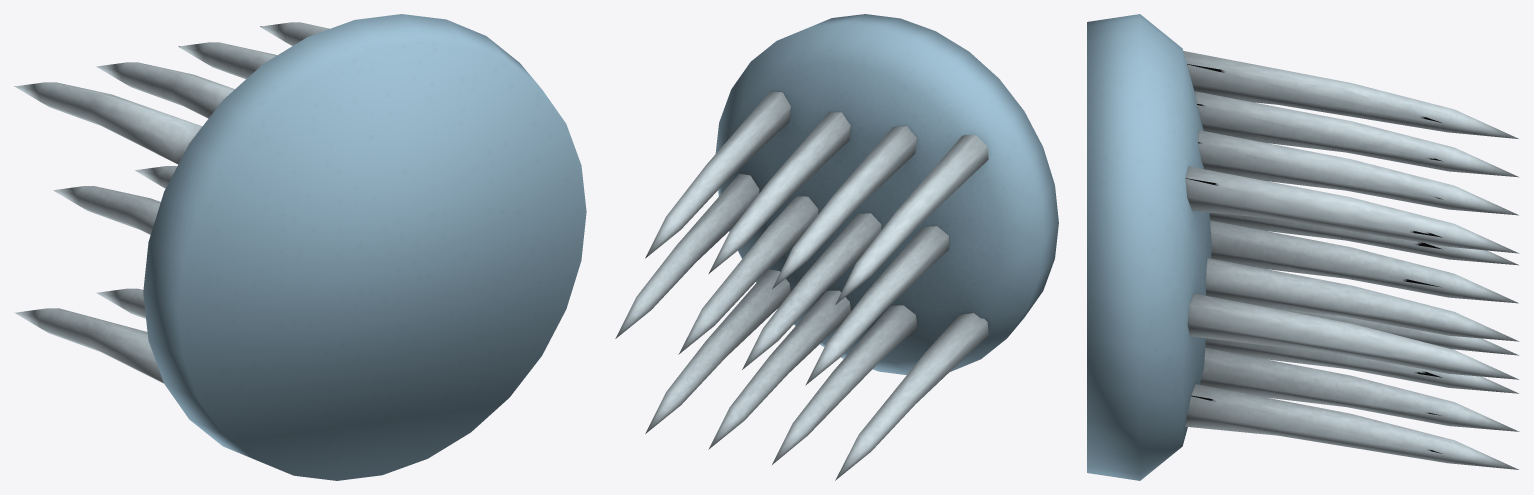
File: part_cilia.glb
3 renders of one model, left to right at view 1: azimuth 30°, elevation 25°; view 2: azimuth 150°, elevation 25°; view 3: azimuth 270°, elevation 25°, orthographic. The views are drawn at different scales.
Parts seen in each view (by area): view 1: Cilia; view 2: Cilia; view 3: Cilia.
Boxes of the visible parts, <box> form: Cilia: <box>14,14,586,480</box>; Cilia: <box>615,14,1058,480</box>; Cilia: <box>1087,14,1519,480</box>.
Bounding box in the file's own units: 0.176 × 0.176 × 0.1631.
Materials: 2 (2 with a texture image).
